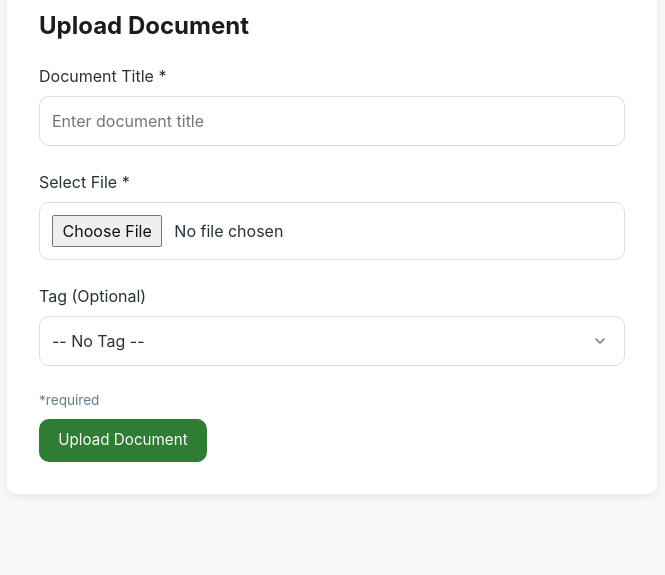
Test: UploadComponent validation › keeps upload clickable and shows both missing fields without a request
Click the submit button at (123, 440), box [39,419,207,462]
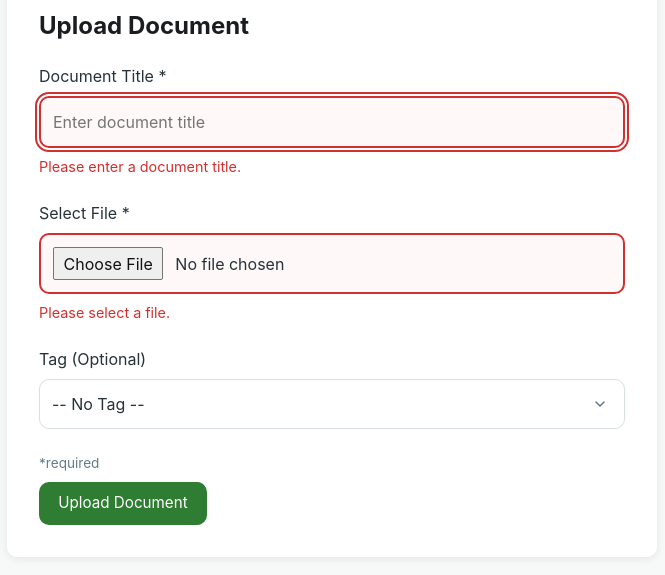
Expected: the message "Please enter a document title." is shown, [39,158,241,175]
Expected: the message "Please select a file." is shown, [39,304,170,321]
